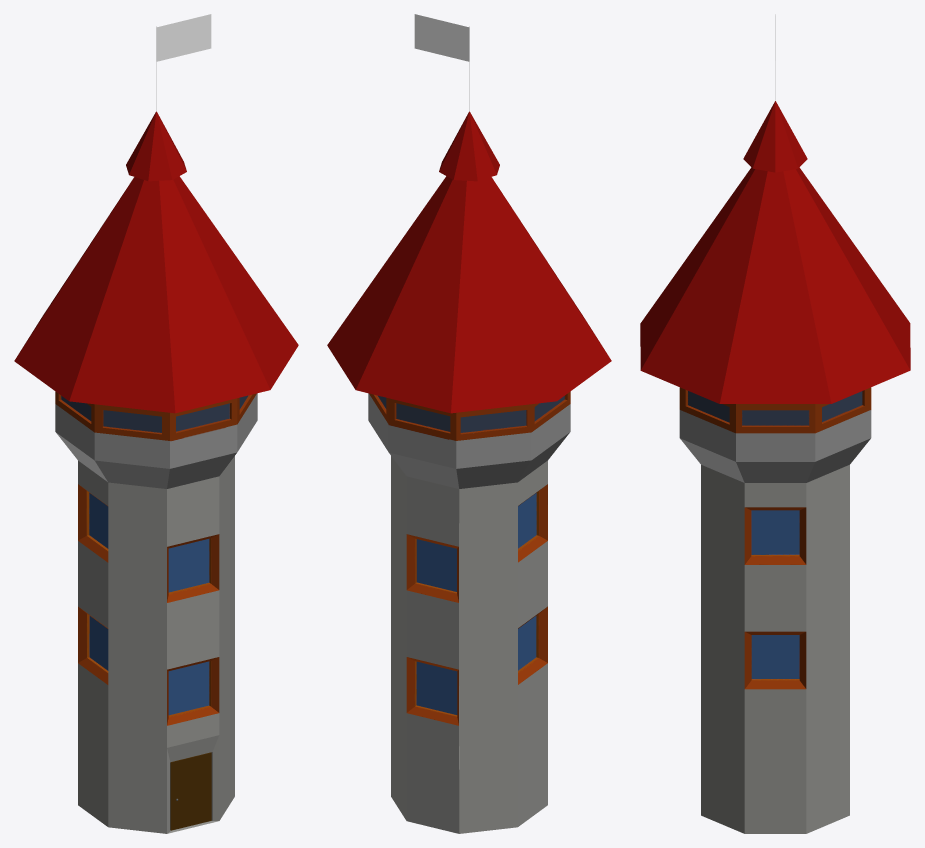
The model's file is MageTower.fbx.
3 views of the same model, side by side, from view 1: azimuth 30°, elevation 25°; view 2: azimuth 150°, elevation 25°; view 3: azimuth 270°, elevation 25° (orthographic).
Visible parts, largest first — view 1: Roof, BuildingPrefab, Attic, Windows, Door, Flag, Entrance; view 2: BuildingPrefab, Roof, Attic, Windows, Flag; view 3: Roof, BuildingPrefab, Attic, Windows.
Boxes of the visible parts, x1,y1,x2,y2 form: Roof: [14, 111, 298, 413]; BuildingPrefab: [78, 456, 234, 833]; Attic: [55, 391, 257, 488]; Windows: [78, 484, 219, 725]; Door: [170, 752, 211, 830]; Flag: [156, 14, 211, 61]; Entrance: [167, 735, 219, 833]; BuildingPrefab: [391, 456, 547, 833]; Roof: [327, 111, 611, 413]; Attic: [368, 391, 570, 488]; Windows: [406, 484, 547, 725]; Flag: [414, 14, 469, 61]; Roof: [640, 101, 910, 403]; BuildingPrefab: [701, 464, 849, 833]; Attic: [679, 387, 871, 482]; Windows: [744, 507, 806, 689].
Size of the model in its own units: 837 by 2695 by 837.
